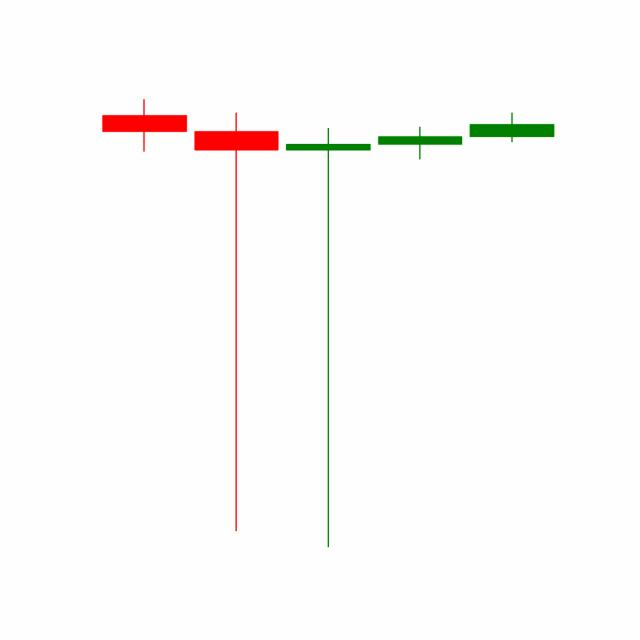Hanging Man: (373, 126, 467, 161)
